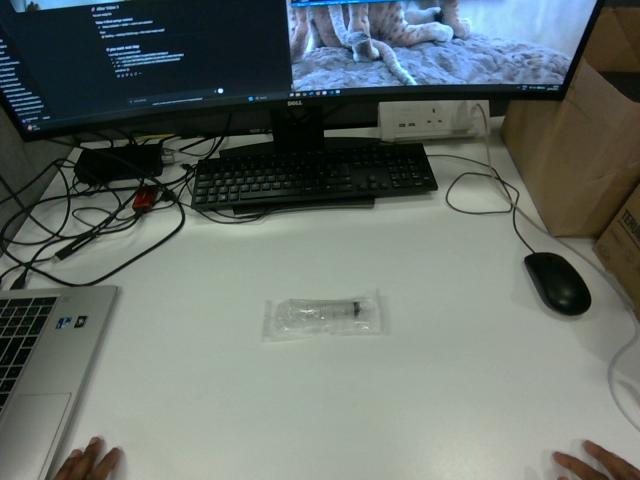syringe: (263, 292, 382, 340)
